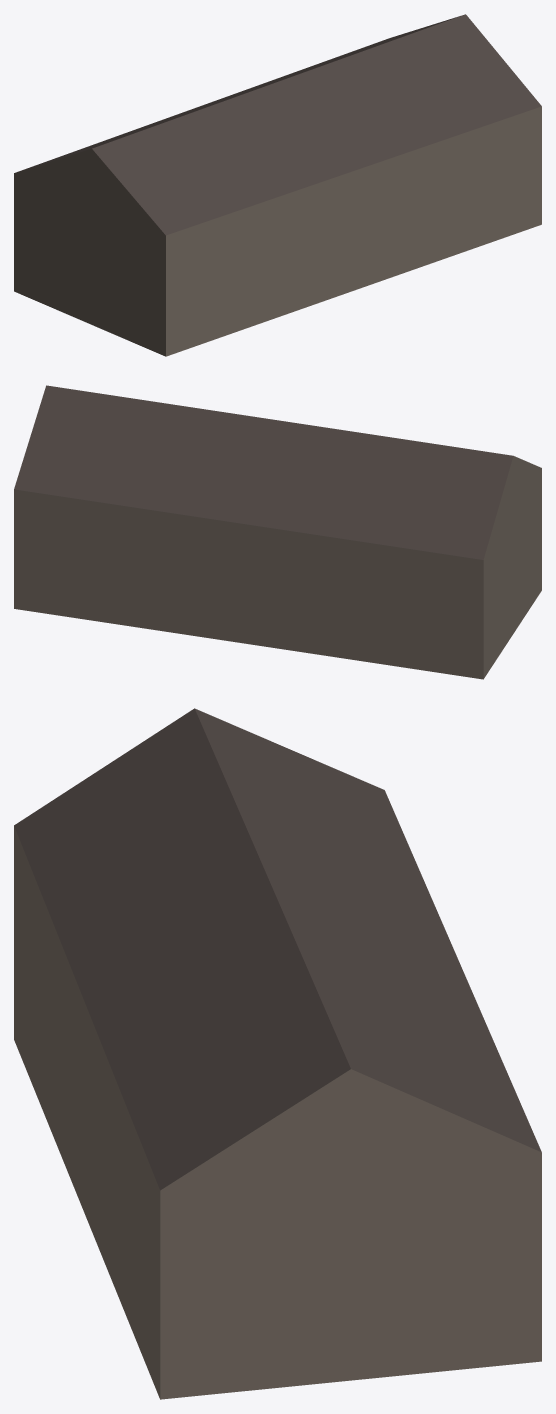
3 renders of one model, top to bottom at view 1: azimuth 30°, elevation 25°; view 2: azimuth 150°, elevation 25°; view 3: azimuth 270°, elevation 25°, orthographic. The views are drawn at different scales.
Visible parts, largest first — view 1: HP-w505649235; view 2: HP-w505649235; view 3: HP-w505649235.
Boxes of the visible parts, <box> form: HP-w505649235: <box>14,14,541,356</box>; HP-w505649235: <box>14,385,541,679</box>; HP-w505649235: <box>14,708,541,1399</box>.
Size of the model in its own units: 24.66 by 8.94 by 13.74.
